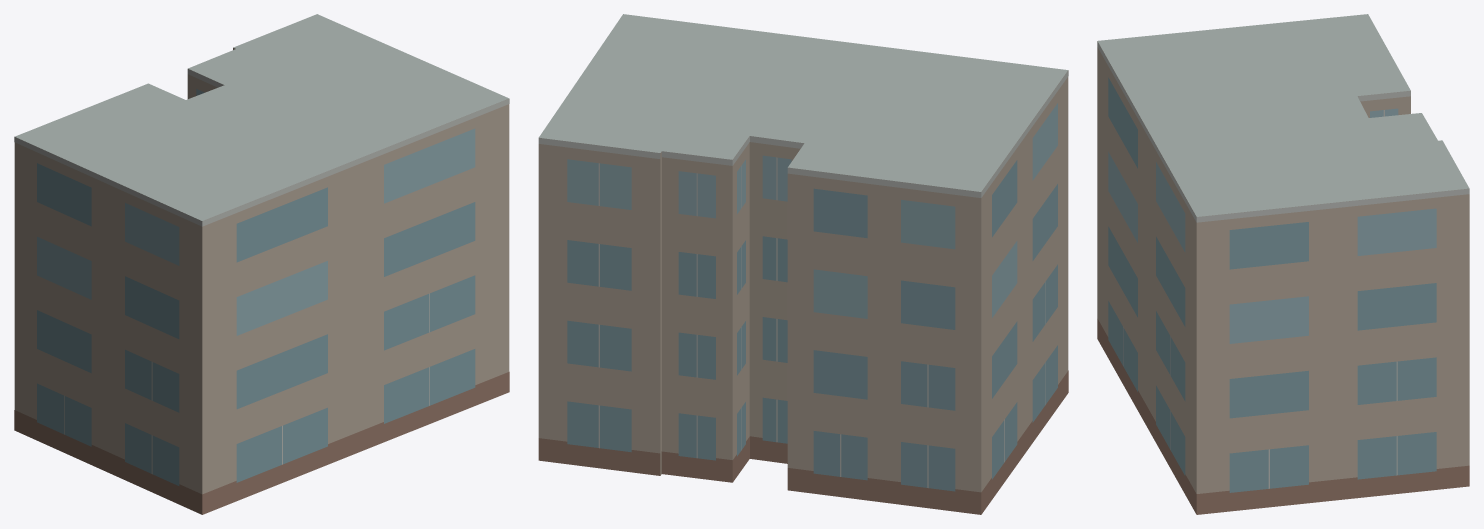
File: survey-upis-32907175.glb
3 renders of one model, left to right at view 1: azimuth 30°, elevation 25°; view 2: azimuth 150°, elevation 25°; view 3: azimuth 270°, elevation 25°, orthographic. The views are drawn at different scales.
Parts seen in each view (by area): view 1: survey-upis-32907175.tmp; view 2: survey-upis-32907175.tmp; view 3: survey-upis-32907175.tmp.
Part boxes in pixels (bbox=[...]): survey-upis-32907175.tmp: bbox=[14, 14, 509, 514]; survey-upis-32907175.tmp: bbox=[538, 14, 1068, 514]; survey-upis-32907175.tmp: bbox=[1097, 14, 1469, 514].
Size of the model in its own units: 18.94 by 12.95 by 14.68.
